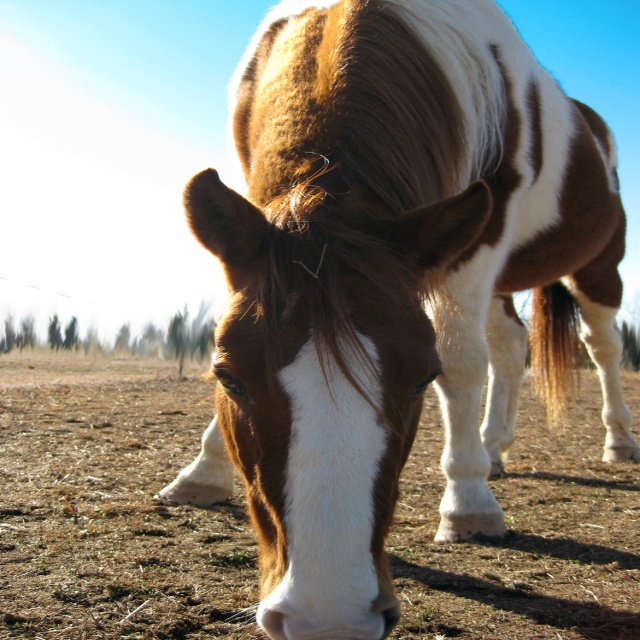Horse: (152, 0, 639, 640)
